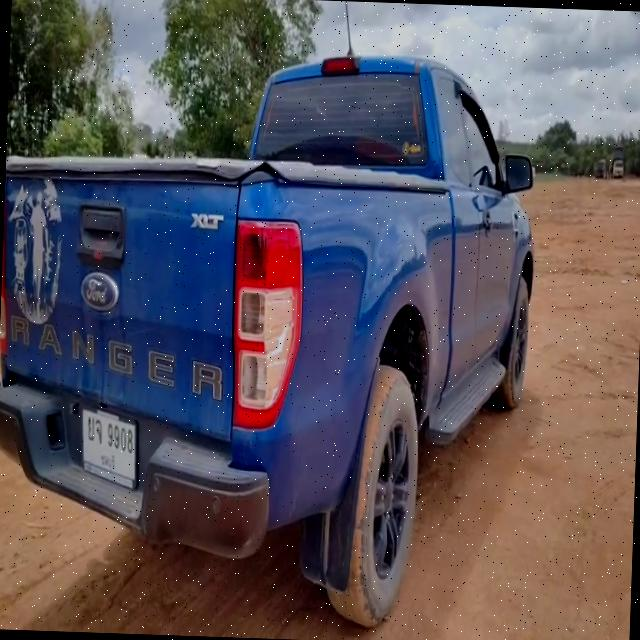Digit: (107, 420, 132, 456)
Licenseplate: (81, 405, 138, 490)
Provincename: (98, 450, 115, 471)
Thaichar: (86, 414, 102, 444)
